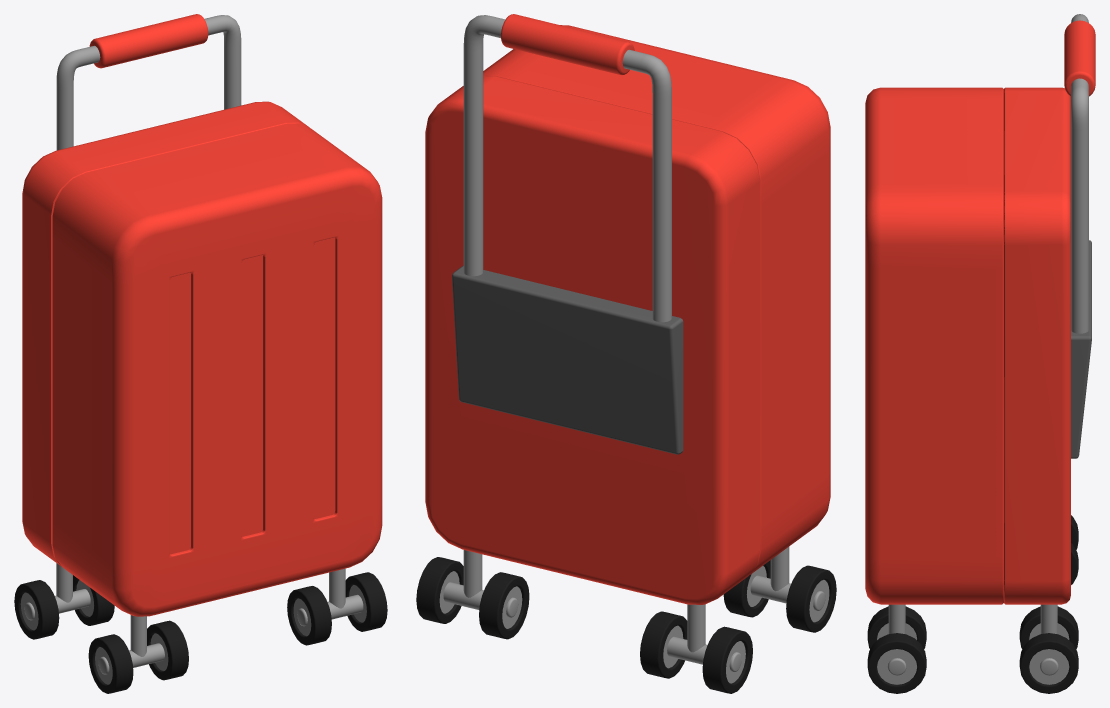
The model's file is Public_7_Suitcase_4.glb.
3 views of the same model, side by side, from view 1: azimuth 30°, elevation 25°; view 2: azimuth 150°, elevation 25°; view 3: azimuth 270°, elevation 25° (orthographic). The views are drawn at different scales.
Visible parts, largest first — view 1: Public_7_Suitcase_4; view 2: Public_7_Suitcase_4; view 3: Public_7_Suitcase_4.
Boxes of the visible parts, bbox=[...] form: Public_7_Suitcase_4: bbox=[14, 14, 387, 693]; Public_7_Suitcase_4: bbox=[416, 14, 836, 693]; Public_7_Suitcase_4: bbox=[865, 14, 1095, 693].
Size of the model in its own units: 1.14 by 2.27 by 0.8151.
Materials: 1 (1 with a texture image).
